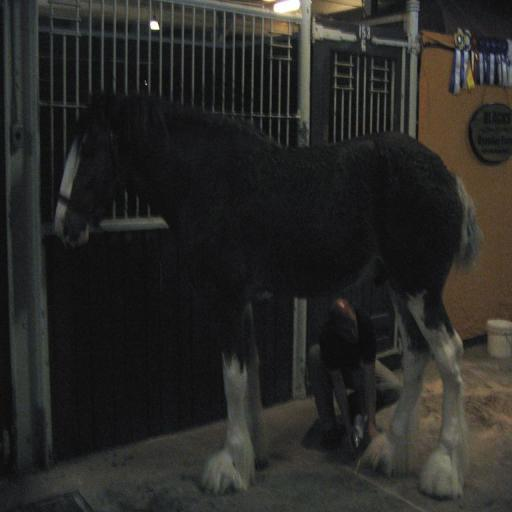horse: (52, 96, 487, 499)
